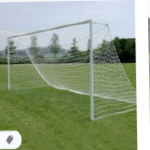goals: (4, 18, 136, 128)
